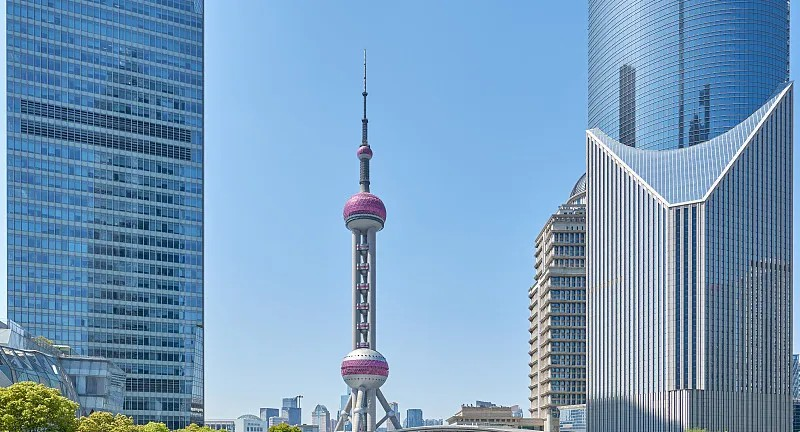Oriental: (334, 50, 402, 432)
